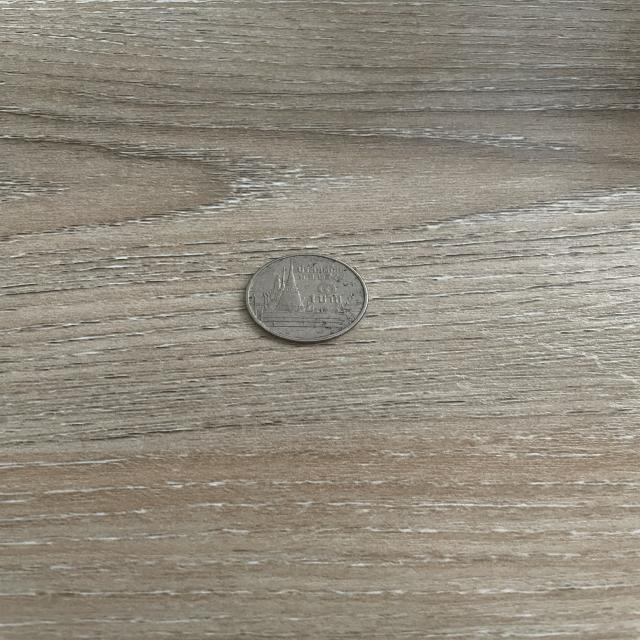1 Bath: (236, 249, 378, 352)
